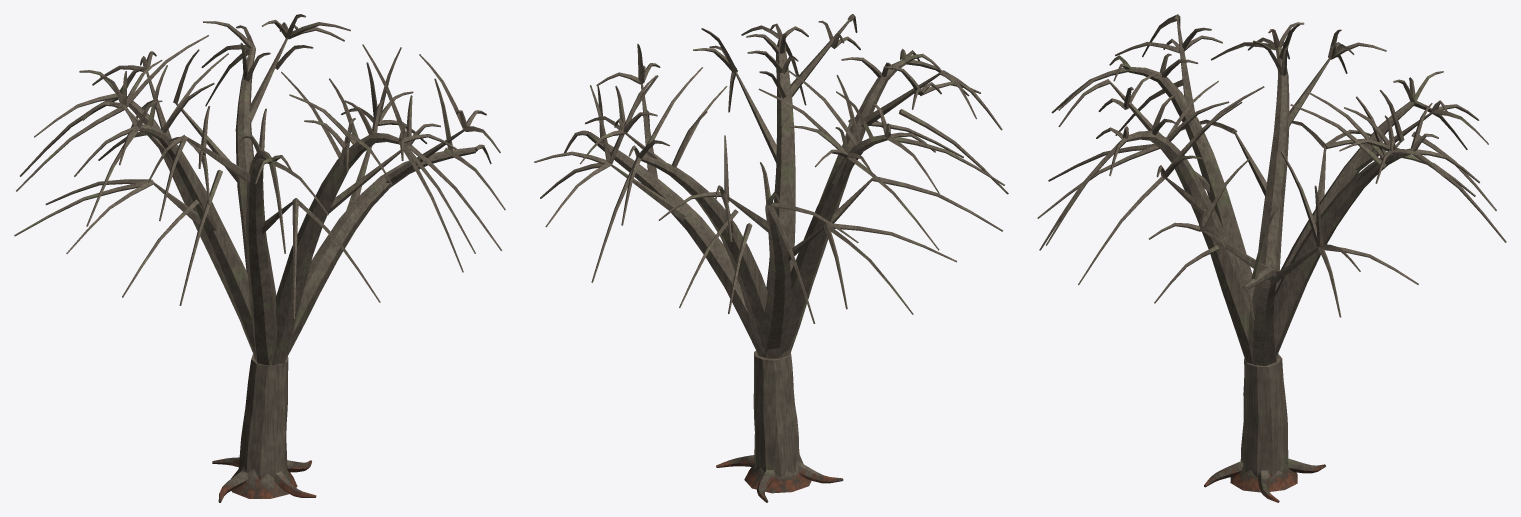
File: MangoTree.fbx
The picture shows the model from 3 angles, left to right: view 1: azimuth 30°, elevation 25°; view 2: azimuth 150°, elevation 25°; view 3: azimuth 270°, elevation 25°; orthographic projection.
Visible parts, largest first — view 1: MangoTrunk, MangoTwigs; view 2: MangoTrunk, MangoTwigs; view 3: MangoTrunk, MangoTwigs.
Boxes of the visible parts, x1=… form: MangoTrunk: x1=122, y1=38, x2=475, y2=502; MangoTwigs: x1=14, y1=14, x2=505, y2=319; MangoTrunk: x1=586, y1=19, x2=940, y2=502; MangoTwigs: x1=534, y1=14, x2=1008, y2=323; MangoTrunk: x1=1110, y1=17, x2=1432, y2=502; MangoTwigs: x1=1037, y1=14, x2=1506, y2=319.
Bounding box in the file's own units: 632 × 605 × 610.
1 material, 1 textured.
